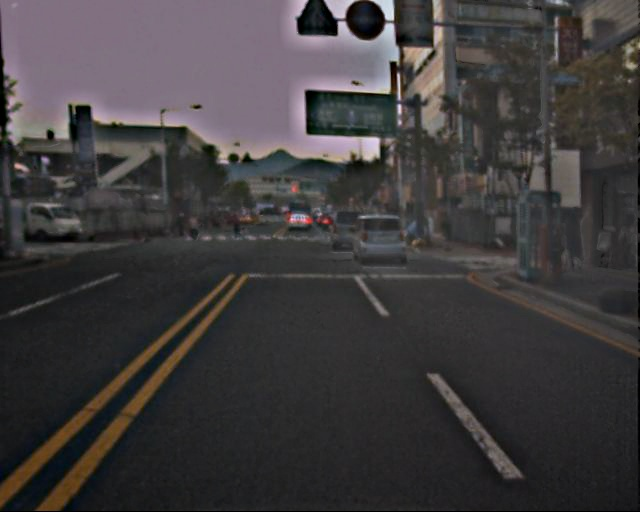person: (558, 212, 587, 271), (176, 205, 189, 240), (231, 207, 243, 237), (190, 213, 201, 240)
